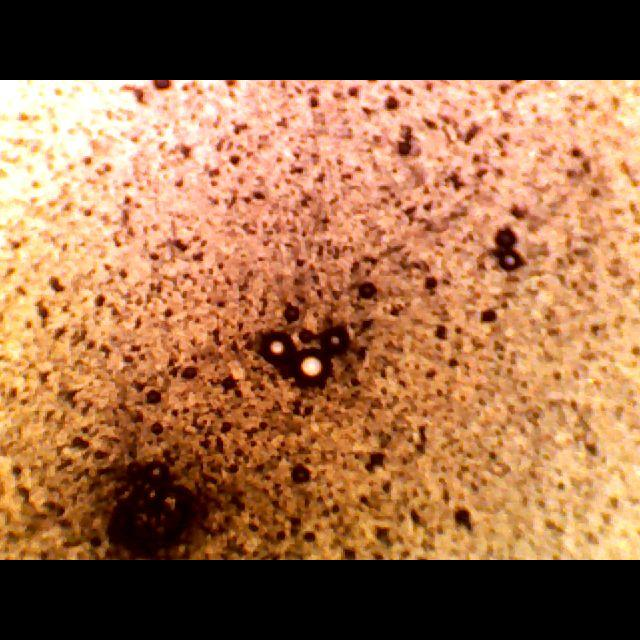Fragment: (90, 460, 212, 560)
microbeads: (285, 346, 339, 394), (261, 331, 293, 367)
